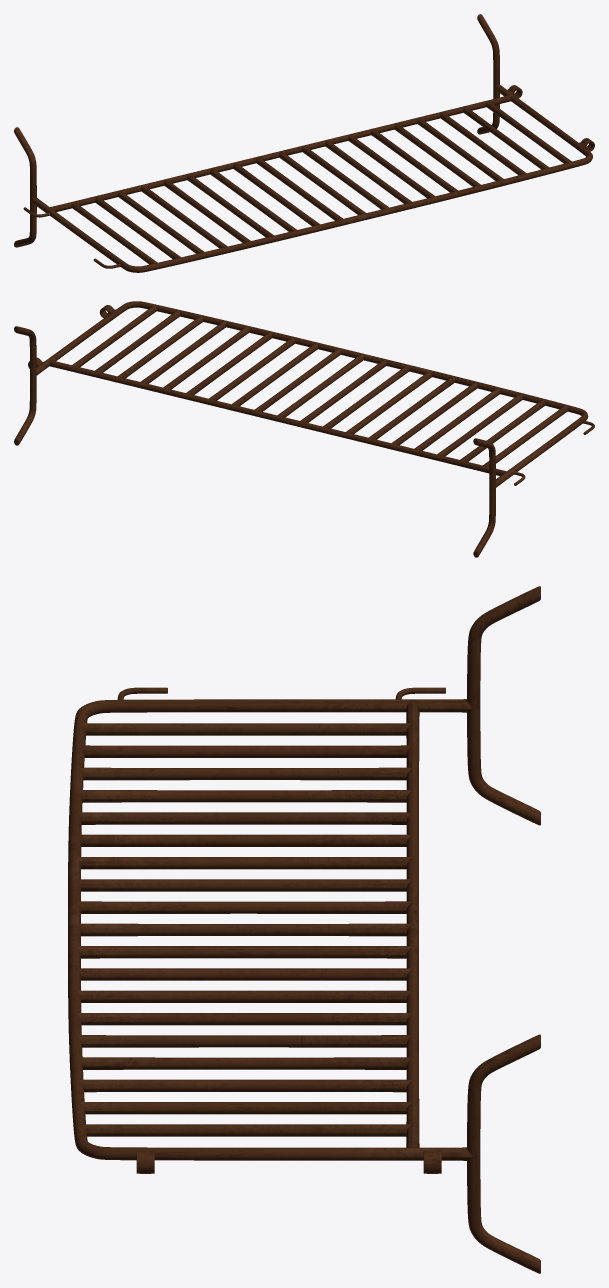
File: 10559_PoliceBarricade_v1-L3.obj
The picture shows the model from 3 angles, top to bottom: view 1: azimuth 30°, elevation 25°; view 2: azimuth 150°, elevation 25°; view 3: azimuth 270°, elevation 25°; orthographic projection. The views are drawn at different scales.
Visible parts, largest first — view 1: PoliceBarricade polySurface32, polySurface7 PoliceBarricade, PoliceBarricade polySurface27, PoliceBarricade polySurface33, PoliceBarricade polySurface18, PoliceBarricade polySurface9, PoliceBarricade polySurface11, PoliceBarricade polySurface8, PoliceBarricade polySurface10, PoliceBarricade polySurface12, PoliceBarricade polySurface13, PoliceBarricade polySurface19 (+11 smaller); view 2: PoliceBarricade polySurface32, polySurface7 PoliceBarricade, PoliceBarricade polySurface33, PoliceBarricade polySurface27, PoliceBarricade polySurface10, PoliceBarricade polySurface20, PoliceBarricade polySurface14, PoliceBarricade polySurface19, PoliceBarricade polySurface9, PoliceBarricade polySurface21, PoliceBarricade polySurface22, PoliceBarricade polySurface8 (+11 smaller); view 3: PoliceBarricade polySurface32, polySurface7 PoliceBarricade, PoliceBarricade polySurface20, PoliceBarricade polySurface9, PoliceBarricade polySurface12, PoliceBarricade polySurface18, PoliceBarricade polySurface19, PoliceBarricade polySurface10, PoliceBarricade polySurface21, PoliceBarricade polySurface11, PoliceBarricade polySurface24, PoliceBarricade polySurface13 (+11 smaller).
Boxes of the visible parts, x1,y1,x2,y2 form: PoliceBarricade polySurface32: (30,84,592,272); polySurface7 PoliceBarricade: (49,95,511,211); PoliceBarricade polySurface27: (14,127,36,247); PoliceBarricade polySurface33: (477,14,499,134); PoliceBarricade polySurface18: (302,145,388,209); PoliceBarricade polySurface9: (256,157,342,220); PoliceBarricade polySurface11: (210,168,296,231); PoliceBarricade polySurface8: (279,151,366,215); PoliceBarricade polySurface10: (233,162,320,226); PoliceBarricade polySurface12: (187,173,273,237); PoliceBarricade polySurface13: (164,179,250,242); PoliceBarricade polySurface19: (325,140,411,203); PoliceBarricade polySurface32: (36,301,588,487); polySurface7 PoliceBarricade: (49,360,506,475); PoliceBarricade polySurface33: (14,326,36,445); PoliceBarricade polySurface27: (473,438,495,557); PoliceBarricade polySurface10: (323,365,409,428); PoliceBarricade polySurface20: (209,337,295,400); PoliceBarricade polySurface14: (414,387,500,450); PoliceBarricade polySurface19: (232,343,318,406); PoliceBarricade polySurface9: (300,359,386,422); PoliceBarricade polySurface21: (186,331,272,394); PoliceBarricade polySurface22: (163,326,249,389); PoliceBarricade polySurface8: (277,354,363,417); PoliceBarricade polySurface32: (68,699,473,1160); polySurface7 PoliceBarricade: (406,700,419,1147); PoliceBarricade polySurface20: (74,990,412,1002); PoliceBarricade polySurface9: (74,901,412,913); PoliceBarricade polySurface12: (74,834,412,846); PoliceBarricade polySurface18: (74,946,412,958); PoliceBarricade polySurface19: (74,968,412,980); PoliceBarricade polySurface10: (74,879,412,891); PoliceBarricade polySurface21: (74,1012,412,1025); PoliceBarricade polySurface11: (74,857,412,869); PoliceBarricade polySurface24: (77,1079,412,1092); PoliceBarricade polySurface13: (74,812,412,824).
Size of the model in its own units: 290 by 67.53 by 121.
Materials: 1 (1 with a texture image).
